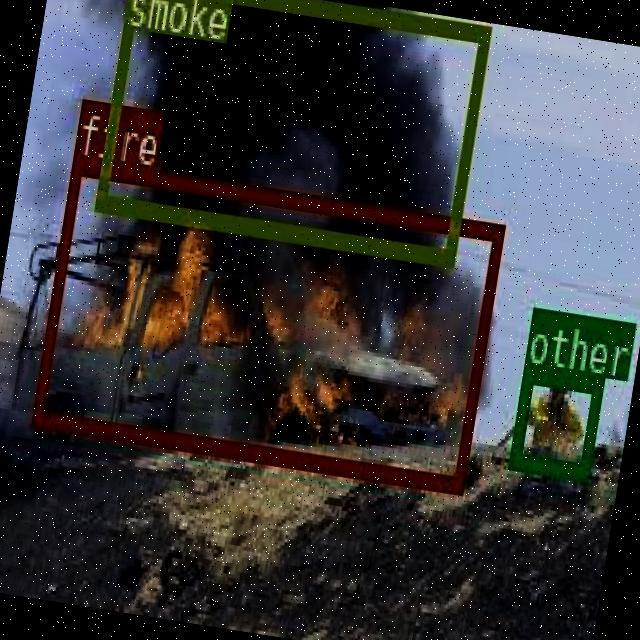fire: (30, 155, 503, 490)
smoke: (94, 0, 488, 262)
